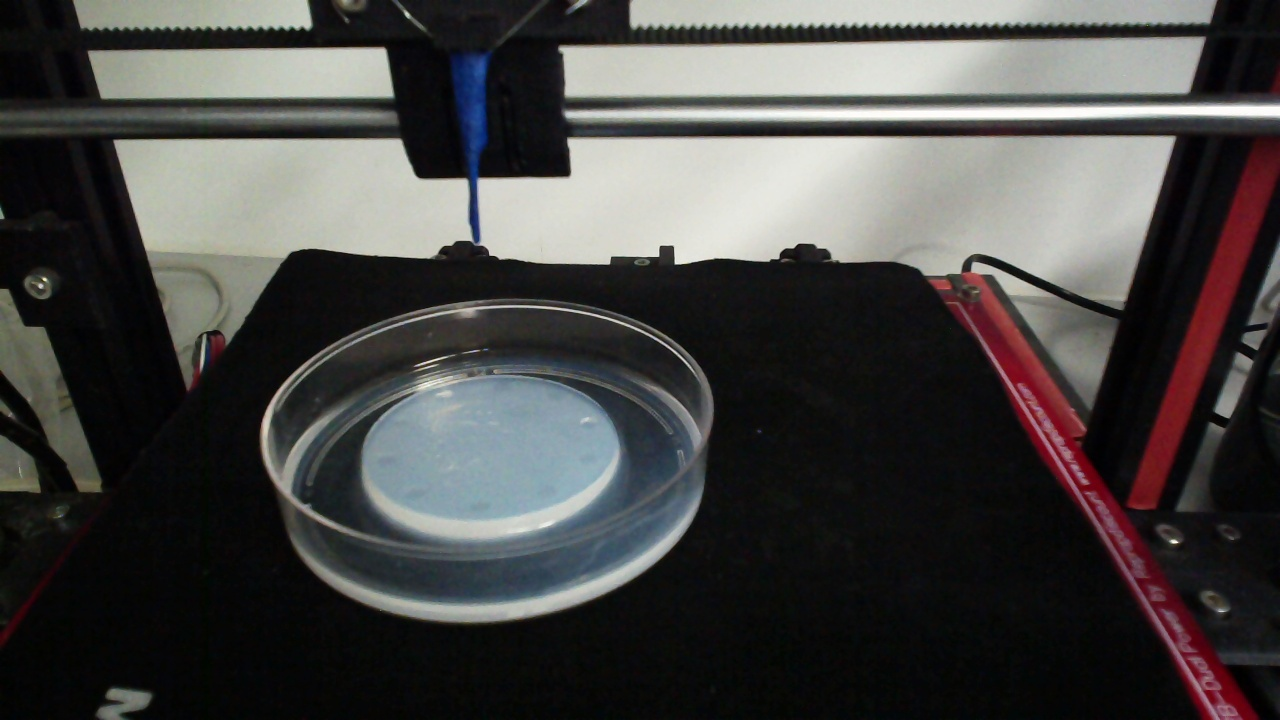groove: (534, 483, 559, 499), (373, 453, 396, 468), (405, 487, 428, 502), (576, 452, 599, 466), (545, 387, 565, 403), (469, 498, 490, 513), (389, 416, 410, 430), (578, 415, 598, 429), (492, 380, 512, 394), (433, 389, 453, 402)
needle: (449, 55, 488, 243)
